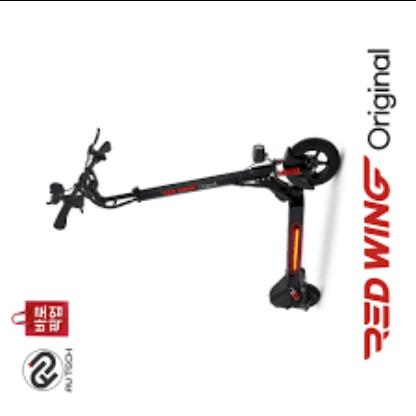bike: (40, 131, 342, 313)
